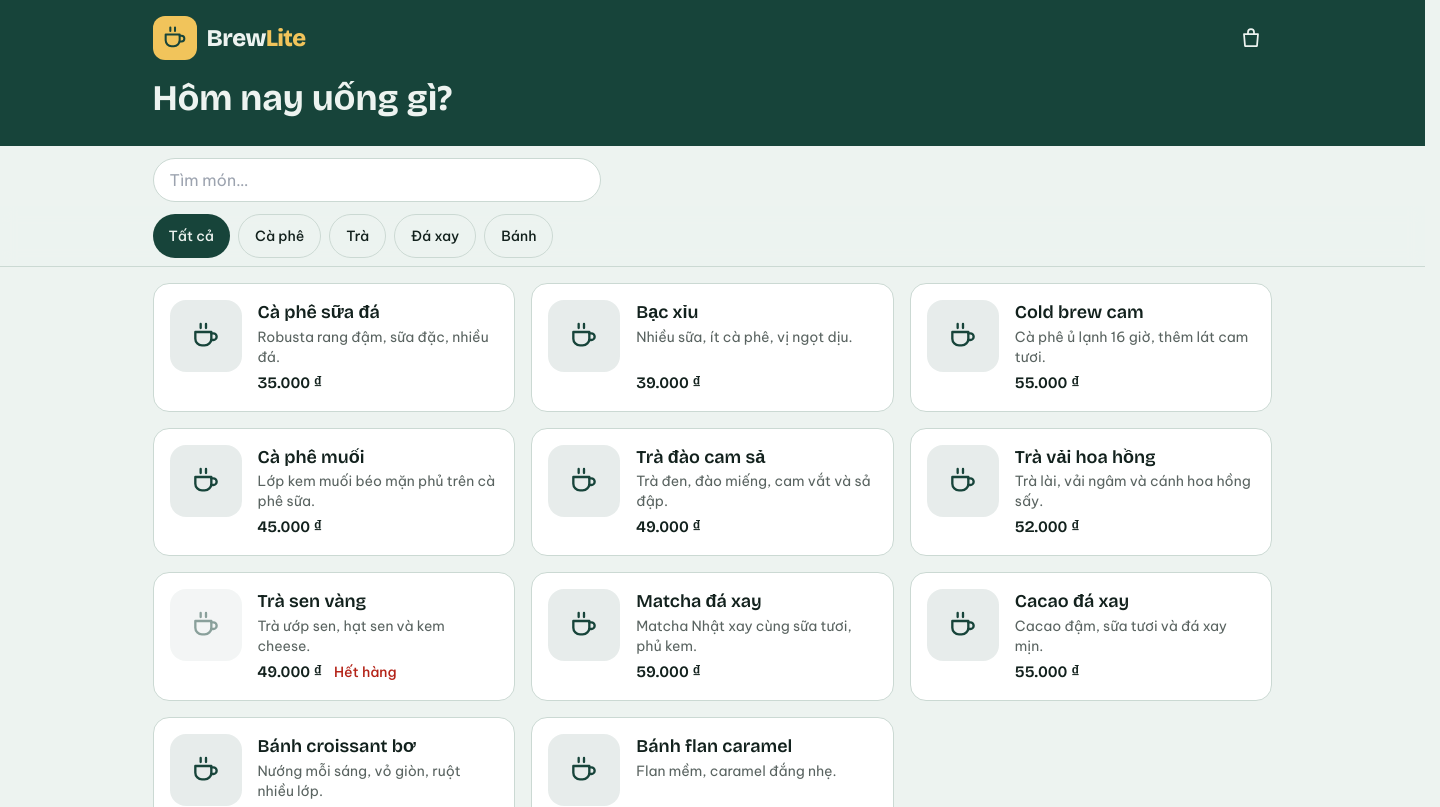
Scenario: MenuScreen › tìm món không cần gõ dấu, không thấy thì báo rõ
This screenshot has width=1440, height=807.
Expected: the heading "Cà phê sữa đá" is shown, [258,301,380,323]
Type "tra dao" into the search field labelled "Tìm món" at x=376, y=180, box [152,158,600,202]
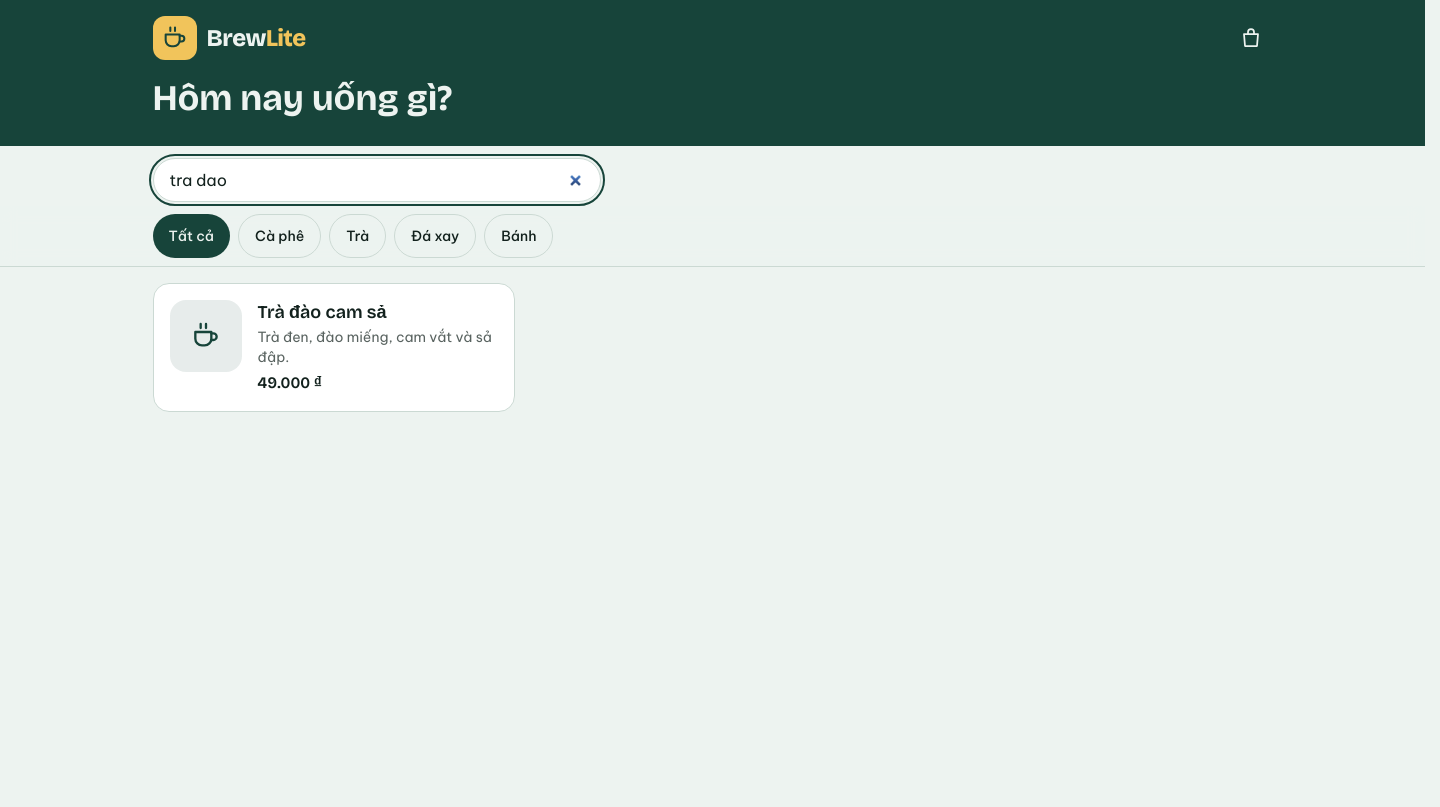
Expected: the heading "Trà đào cam sả" is shown, [258,301,386,323]
Expected: the link "Cà phê sữa đá" is gone
Replace the text in the search field named "Tìm món" with "khong co mon nay" at x=376, y=180, box [152,158,600,202]
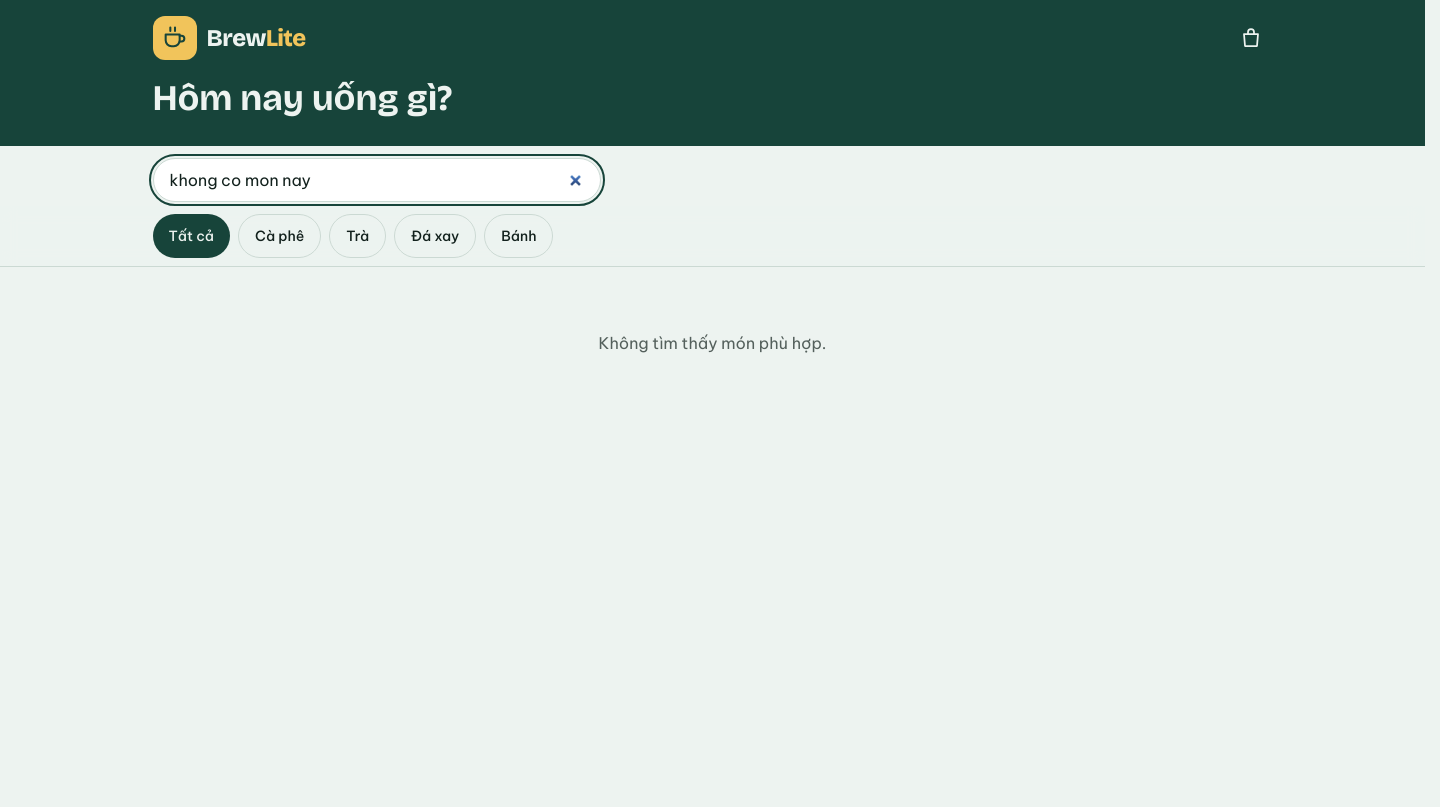
Expected: the text "Không tìm thấy món phù hợp." is shown, [599,333,826,353]
